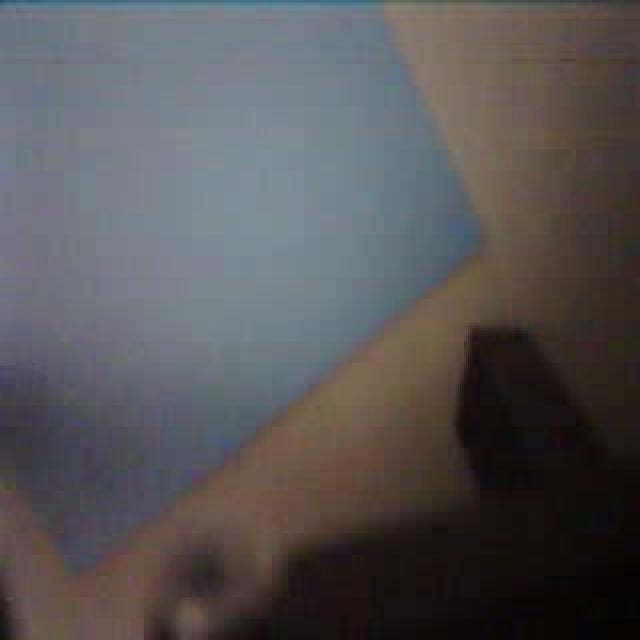blue_box: (2, 8, 479, 574)
